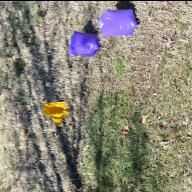cone: (43, 100, 69, 124)
cube: (98, 8, 138, 36), (68, 31, 100, 56)
